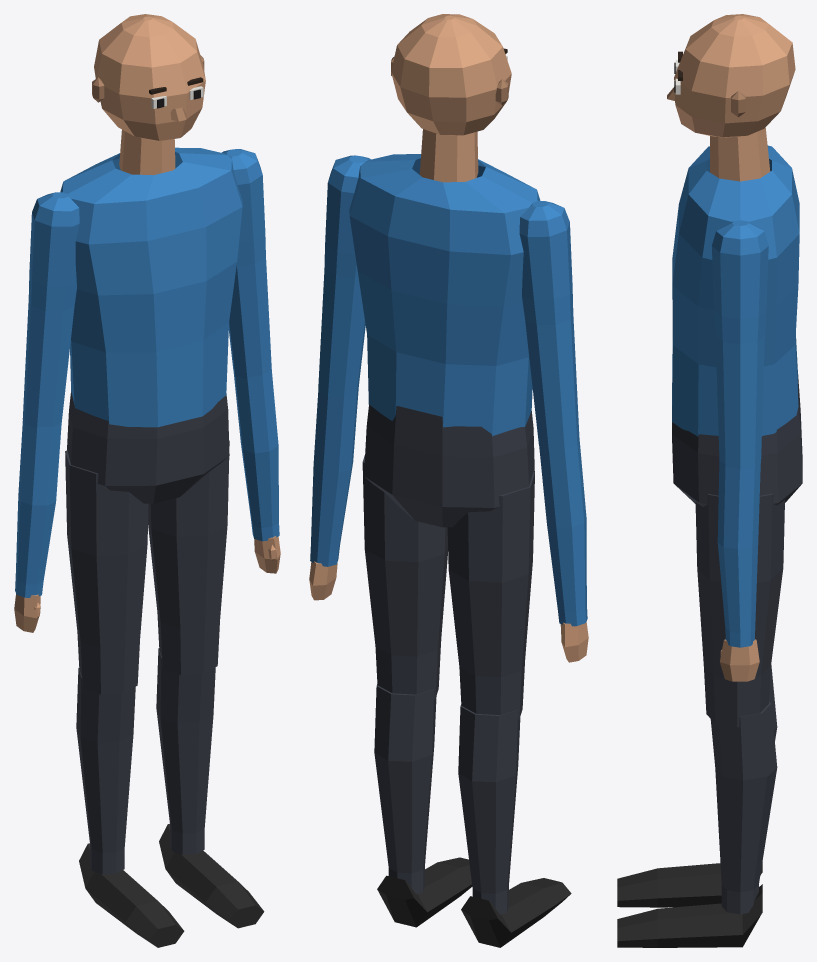
Rendered from adulte_h_moyen.glb.
3 views of the same model, side by side, from view 1: azimuth 30°, elevation 25°; view 2: azimuth 150°, elevation 25°; view 3: azimuth 270°, elevation 25° (orthographic). The views are drawn at different scales.
Parts seen in each view (by area): view 1: torse, jambe_d, tete, jambe_g, tibia_g, tibia_d, bassin, bras_d, bras_g, avant_bras_d, avant_bras_g; view 2: torse, jambe_d, bassin, tete, tibia_d, jambe_g, tibia_g, bras_d, bras_g, avant_bras_d, avant_bras_g; view 3: torse, tibia_g, tete, bras_g, jambe_g, avant_bras_g, bassin, tibia_d.
Boxes of the visible parts, <box> form: torse: <box>60,147,242,427</box>; jambe_d: <box>65,450,148,694</box>; tete: <box>92,14,205,175</box>; jambe_g: <box>148,440,229,674</box>; tibia_g: <box>156,648,264,928</box>; tibia_d: <box>76,668,184,947</box>; bassin: <box>67,392,229,503</box>; bras_d: <box>22,192,79,428</box>; bras_g: <box>221,149,271,378</box>; avant_bras_d: <box>14,421,61,632</box>; avant_bras_g: <box>233,369,280,573</box>; torse: <box>349,154,540,436</box>; jambe_d: <box>447,471,534,719</box>; bassin: <box>364,404,534,527</box>; tete: <box>391,14,511,182</box>; tibia_d: <box>458,704,571,947</box>; jambe_g: <box>362,454,448,699</box>; tibia_g: <box>374,684,472,927</box>; bras_d: <box>519,201,579,449</box>; bras_g: <box>318,155,370,398</box>; avant_bras_d: <box>539,438,588,662</box>; avant_bras_g: <box>309,386,358,600</box>; torse: <box>672,145,799,436</box>; tibia_g: <box>617,702,777,947</box>; tete: <box>667,14,795,181</box>; bras_g: <box>712,220,768,470</box>; jambe_g: <box>695,493,784,727</box>; avant_bras_g: <box>717,460,760,681</box>; bassin: <box>672,374,802,506</box>; tibia_d: <box>617,665,777,907</box>.
Bounding box in the file's own units: 0.5444 × 1.74 × 0.3226.
Materials: 1 (1 with a texture image).
